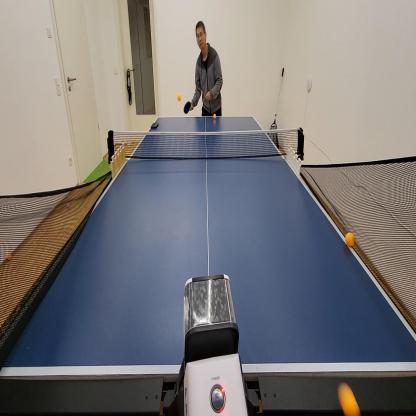Ball: (336, 380, 362, 416), (345, 230, 355, 249), (6, 251, 12, 261), (177, 93, 182, 102), (66, 202, 71, 209), (213, 113, 217, 120)
